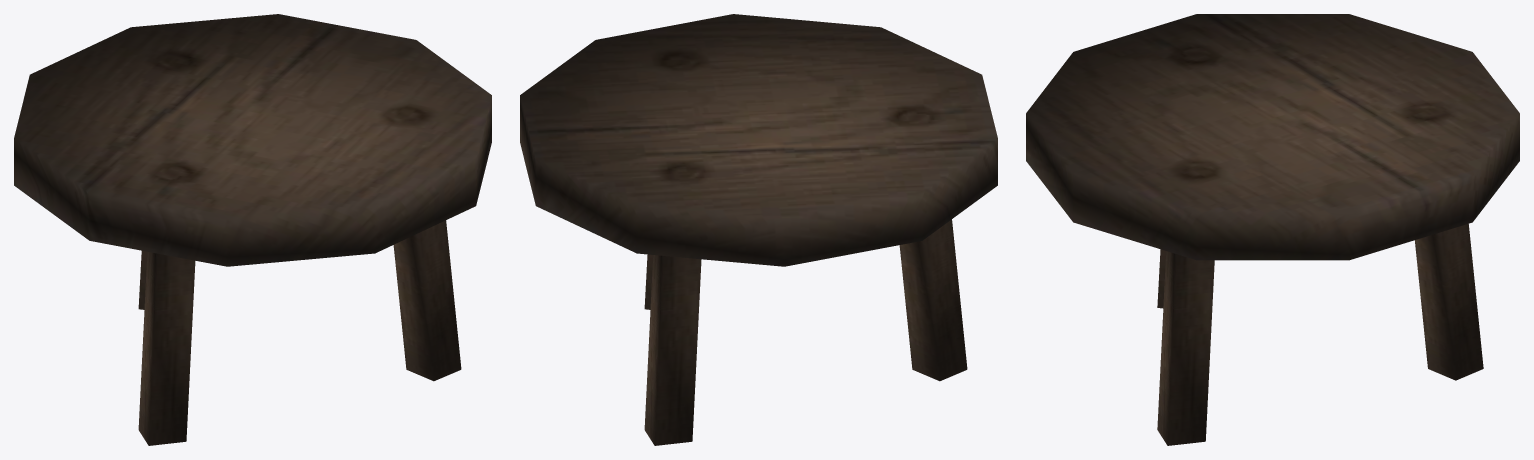
The model's file is Tv_Stool_Round.glb.
3 views of the same model, side by side, from view 1: azimuth 30°, elevation 25°; view 2: azimuth 150°, elevation 25°; view 3: azimuth 270°, elevation 25° (orthographic).
Parts seen in each view (by area): view 1: chair_wood_2; view 2: chair_wood_2; view 3: chair_wood_2.
Part boxes in pixels (x1=…): chair_wood_2: x1=14, y1=14, x2=491, y2=445; chair_wood_2: x1=520, y1=14, x2=997, y2=445; chair_wood_2: x1=1026, y1=14, x2=1519, y2=445.
Size of the model in its own units: 0.749 by 0.45 by 0.7875.
1 material, 1 textured.
